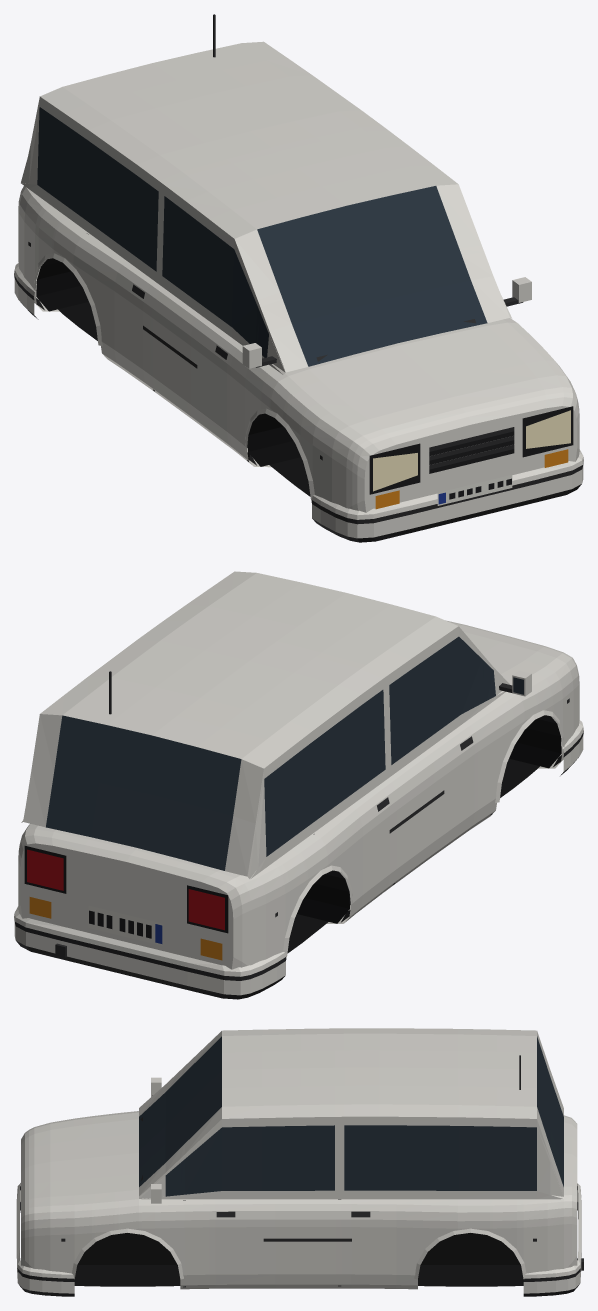
The model's file is alcor-risco.glb.
3 views of the same model, one above another, from view 1: azimuth 30°, elevation 25°; view 2: azimuth 150°, elevation 25°; view 3: azimuth 270°, elevation 25° (orthographic). The views are drawn at different scales.
Visible parts, largest first — view 1: LOD0, door_FR, door_RR; view 2: LOD0, door_FR, door_RR; view 3: LOD0, door_FL, door_RL.
Boxes of the visible parts, bbox=[...] form: LOD0: bbox=[14, 14, 583, 542]; door_FR: bbox=[151, 185, 257, 458]; door_RR: bbox=[73, 130, 158, 386]; LOD0: bbox=[14, 571, 583, 999]; door_FR: bbox=[389, 626, 494, 880]; door_RR: bbox=[312, 679, 396, 916]; LOD0: bbox=[16, 1028, 583, 1296]; door_FL: bbox=[184, 1117, 337, 1285]; door_RL: bbox=[341, 1116, 458, 1285].
Size of what is drawn, in the model's own units: 1.97 by 1.76 by 4.25.
